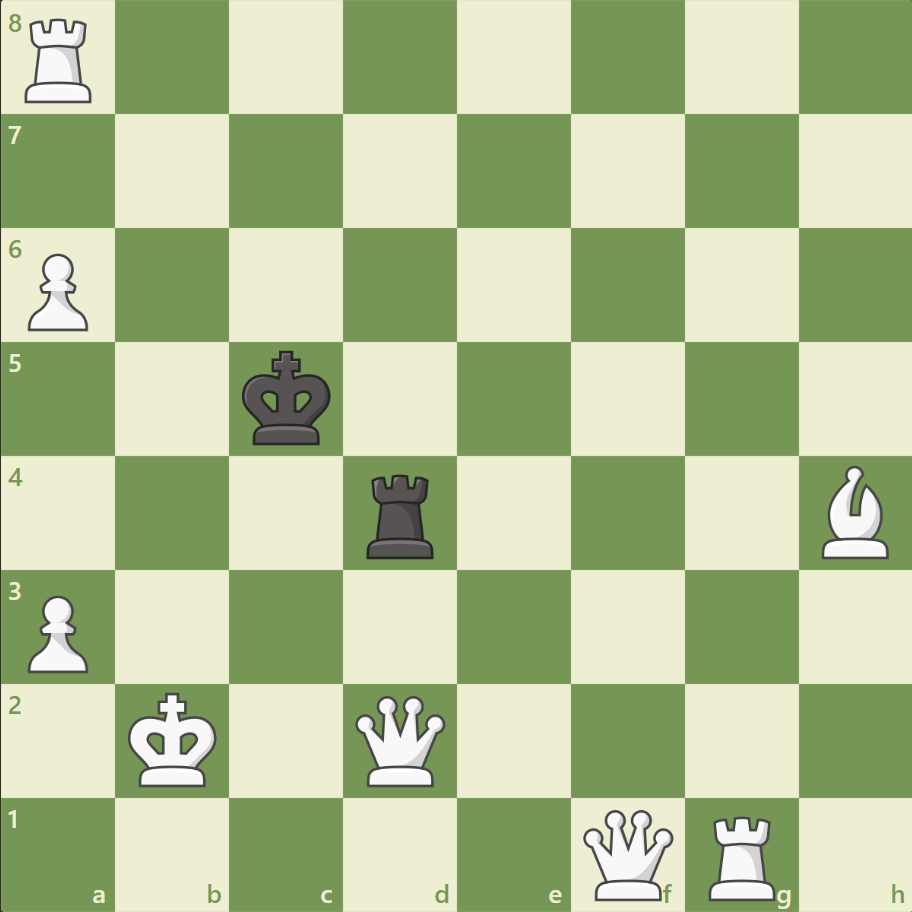B: (812, 460, 896, 563)
K: (124, 685, 224, 793)
P: (20, 246, 95, 337), (20, 586, 95, 677)
Q: (351, 690, 450, 789), (578, 804, 677, 903)
R: (700, 806, 783, 904), (19, 12, 102, 109)
k: (238, 344, 338, 452)
r: (360, 466, 442, 563)
